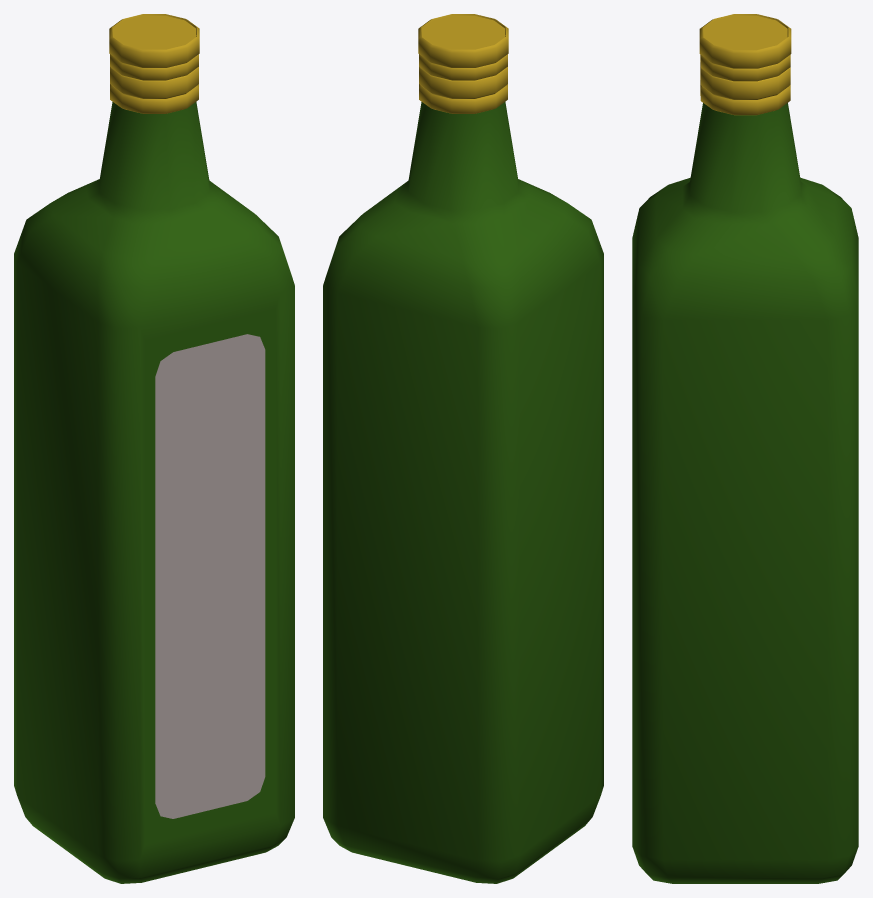
The model's file is OliveOil-Pot_01.fbx.
The picture shows the model from 3 angles, left to right: view 1: azimuth 30°, elevation 25°; view 2: azimuth 150°, elevation 25°; view 3: azimuth 270°, elevation 25°; orthographic projection.
Visible parts, largest first — view 1: OliveOil-Pot_01; view 2: OliveOil-Pot_01; view 3: OliveOil-Pot_01.
Part boxes in pixels (x1,y1,x2,y2): OliveOil-Pot_01: (14, 14, 294, 883); OliveOil-Pot_01: (323, 14, 603, 883); OliveOil-Pot_01: (632, 14, 858, 883).
Bounding box in the file's own units: 432 × 1707 × 432.
